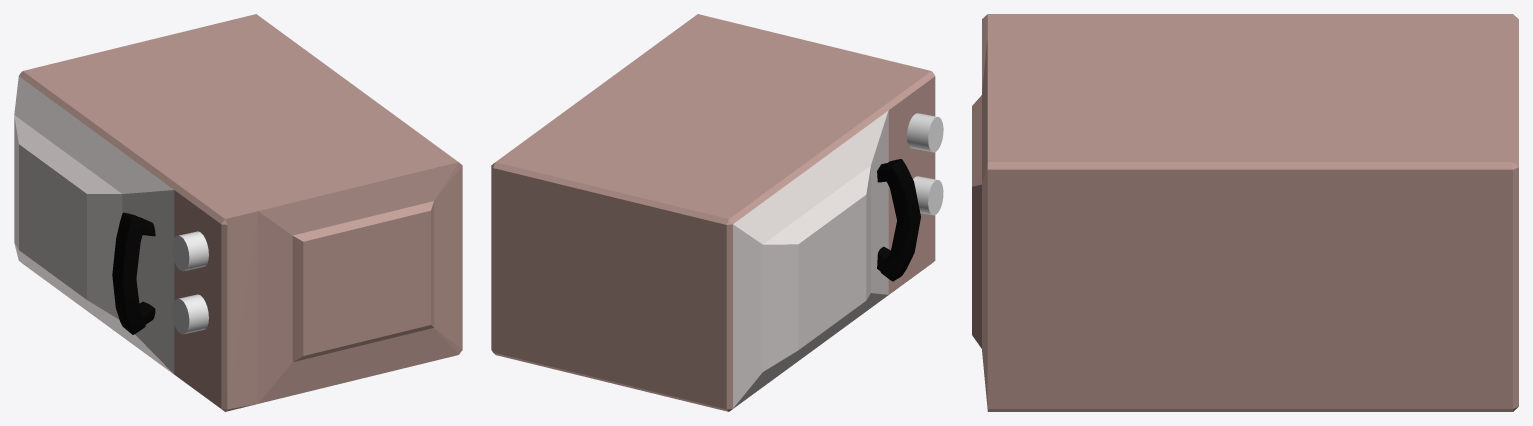
Rendered from microwave.fbx.
3 renders of one model, left to right at view 1: azimuth 30°, elevation 25°; view 2: azimuth 150°, elevation 25°; view 3: azimuth 270°, elevation 25°, orthographic. The views are drawn at different scales.
Visible parts, largest first — view 1: polySurface4, polySurface5, pCube2, polySurface6, polySurface3; view 2: polySurface4, polySurface5, pCube2, polySurface3, polySurface6; view 3: polySurface4.
Part boxes in pixels (left/top/right/bottom): polySurface4: left=19, top=14, right=462, bottom=411; polySurface5: left=14, top=76, right=174, bottom=373; pCube2: left=112, top=212, right=155, bottom=334; polySurface6: left=172, top=294, right=208, bottom=334; polySurface3: left=172, top=231, right=208, bottom=271; polySurface4: left=491, top=14, right=935, bottom=411; polySurface5: left=733, top=110, right=888, bottom=408; pCube2: left=877, top=159, right=920, bottom=281; polySurface3: left=907, top=113, right=943, bottom=152; polySurface6: left=913, top=176, right=943, bottom=215; polySurface4: left=972, top=14, right=1518, bottom=411.
Size of the model in its own units: 2.71 by 1.76 by 3.48.
